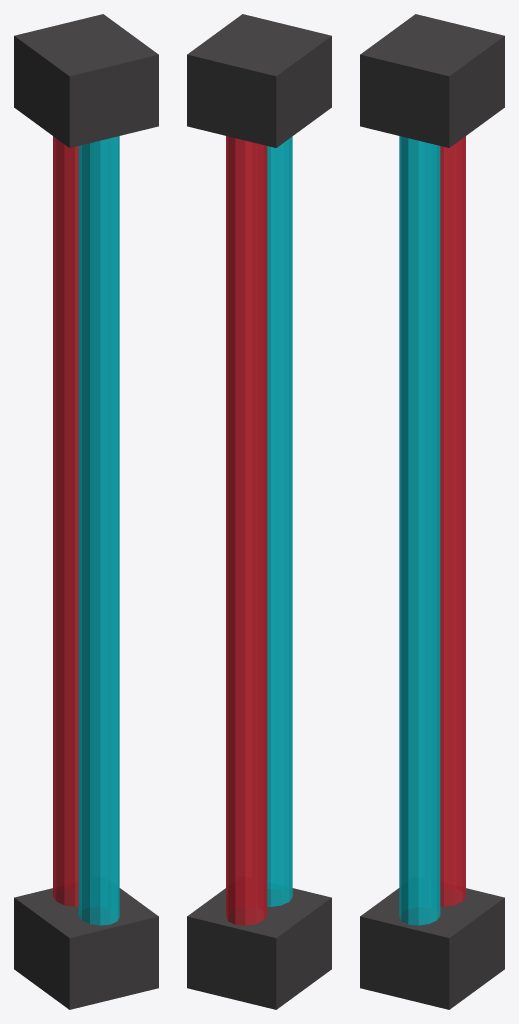
File: LED Light.fbx
The picture shows the model from 3 angles, left to right: view 1: azimuth 30°, elevation 25°; view 2: azimuth 150°, elevation 25°; view 3: azimuth 330°, elevation 25°; orthographic projection.
Visible parts, largest first — view 1: LED Light; view 2: LED Light; view 3: LED Light.
Boxes of the visible parts, box(x1,y1,x2,y2) form: LED Light: box(14, 14, 158, 1009); LED Light: box(187, 14, 331, 1009); LED Light: box(360, 14, 504, 1009).
Bounding box in the file's own units: 260 × 2600 × 280.
